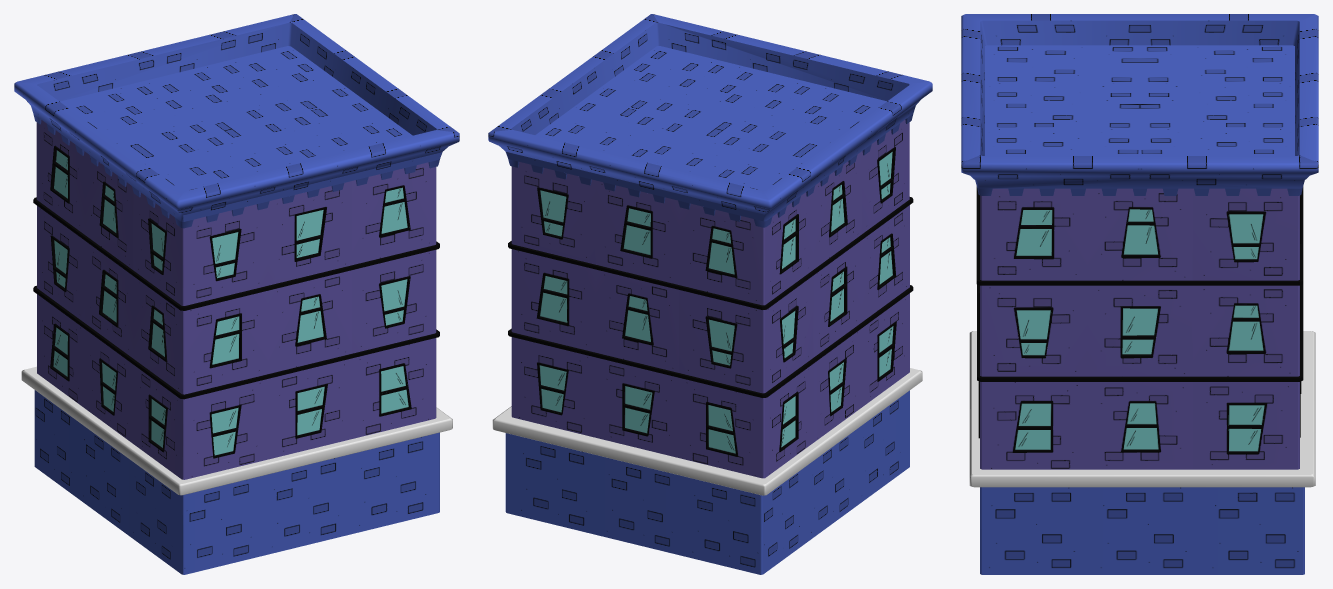
File: 3x3w_Building.fbx
The picture shows the model from 3 angles, left to right: view 1: azimuth 30°, elevation 25°; view 2: azimuth 150°, elevation 25°; view 3: azimuth 270°, elevation 25°; orthographic projection. The views are drawn at different scales.
Parts seen in each view (by area): view 1: 2x004, roof004, ground floor002, bar002; view 2: 2x004, roof004, ground floor002, bar002; view 3: 2x004, roof004, ground floor002, bar002.
Boxes of the visible parts, x1,y1,x2,y2 form: 2x004: [33, 120, 439, 479]; roof004: [14, 14, 459, 228]; ground floor002: [34, 390, 439, 574]; bar002: [21, 366, 452, 495]; 2x004: [508, 120, 913, 478]; roof004: [488, 14, 932, 227]; ground floor002: [505, 390, 909, 574]; bar002: [492, 368, 922, 495]; 2x004: [976, 186, 1303, 469]; roof004: [961, 14, 1318, 195]; ground floor002: [980, 487, 1304, 574]; bar002: [969, 331, 1315, 487].
Bounding box in the file's own units: 8.31 × 10.74 × 8.33.
